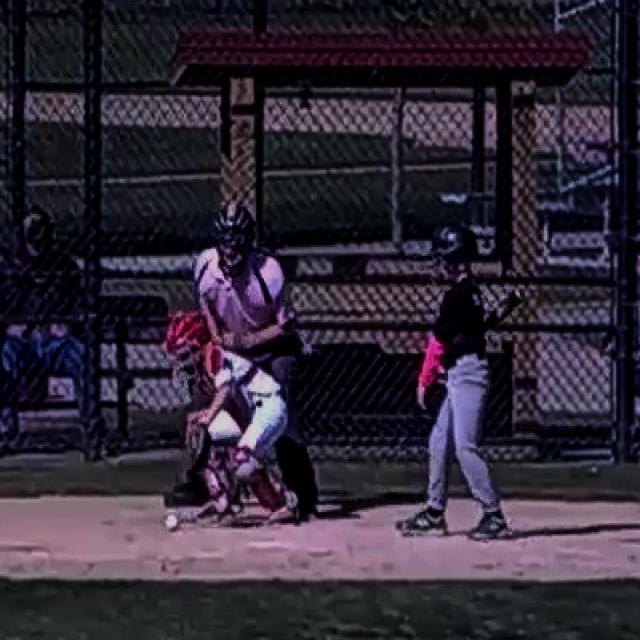baseball: (166, 516, 178, 528)
